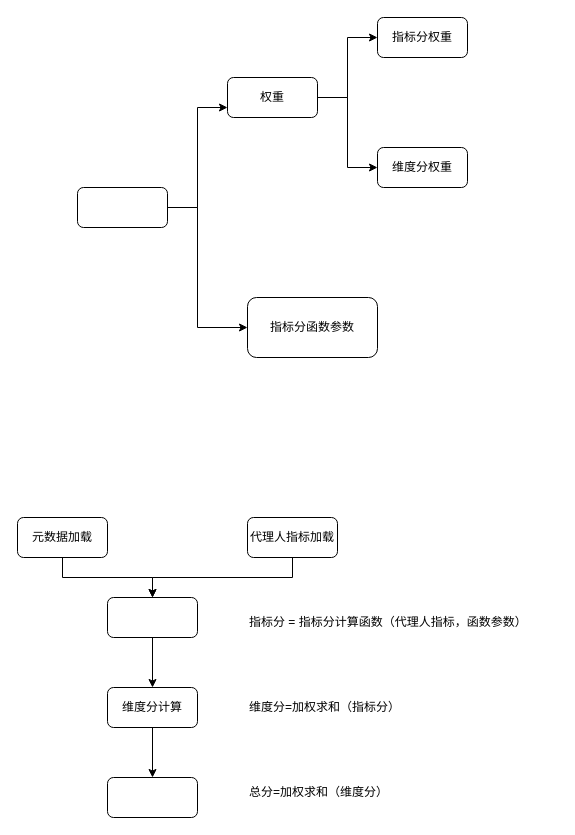
The diagram is 575 pixels wide and 835 high, and some of its shapes have lost their labels. The centre of each missing label's shape, as x and y in pixels:
"总分计算" belongs at pixel 152 797.
"指标分计算" belongs at pixel 152 617.
"模型元数据" belongs at pixel 122 207.
